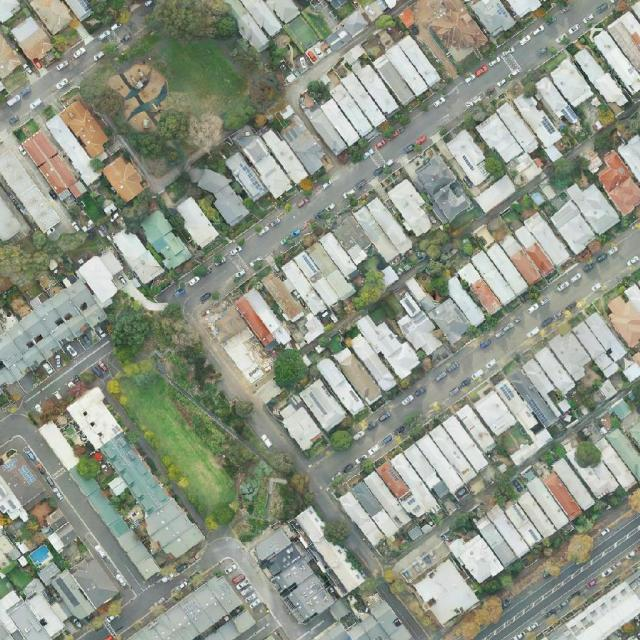building: (61, 385, 206, 564), (290, 15, 443, 161), (35, 419, 163, 582), (244, 502, 367, 628), (214, 98, 331, 212), (379, 258, 486, 365), (441, 215, 544, 319), (388, 425, 483, 521), (473, 96, 561, 189), (205, 286, 295, 376), (128, 572, 243, 640), (341, 304, 425, 393), (539, 173, 622, 257), (519, 327, 600, 406), (294, 231, 369, 309), (529, 56, 605, 132), (315, 342, 387, 421), (19, 128, 89, 208), (0, 147, 63, 235), (408, 0, 489, 68), (499, 476, 571, 550), (409, 558, 481, 630), (185, 154, 254, 229), (544, 438, 612, 513), (493, 374, 547, 466), (408, 152, 475, 226), (336, 480, 402, 552), (511, 88, 572, 163), (447, 520, 514, 588), (296, 9, 374, 66), (352, 195, 415, 265), (44, 113, 103, 187), (590, 9, 640, 96), (45, 113, 103, 187), (571, 310, 633, 378), (570, 45, 631, 113), (497, 221, 557, 288), (314, 601, 414, 639), (136, 208, 193, 273), (58, 97, 115, 160), (505, 366, 560, 430), (108, 225, 164, 286), (276, 115, 331, 176), (385, 177, 438, 240), (276, 259, 331, 318), (599, 136, 640, 215), (444, 128, 497, 188), (375, 460, 426, 522), (361, 470, 413, 530), (415, 433, 465, 494), (441, 414, 490, 473), (297, 378, 349, 433), (275, 398, 326, 454), (171, 195, 221, 251), (76, 253, 125, 310), (485, 503, 532, 559), (396, 33, 443, 88), (260, 269, 307, 324), (100, 153, 149, 204), (428, 423, 474, 477), (498, 232, 543, 287), (442, 275, 487, 329), (472, 389, 518, 438), (473, 518, 518, 568), (455, 403, 498, 455), (541, 471, 584, 521), (468, 0, 518, 40), (204, 607, 257, 640), (474, 175, 518, 214), (293, 312, 327, 346), (0, 31, 22, 78), (0, 196, 22, 241), (0, 530, 22, 568), (623, 282, 640, 316), (403, 495, 426, 519)
greenland: (109, 359, 249, 534), (75, 38, 216, 185), (99, 279, 204, 380), (159, 336, 250, 448), (160, 375, 258, 479), (157, 37, 250, 119), (223, 471, 307, 554), (220, 37, 289, 138), (442, 471, 521, 541), (147, 0, 237, 40), (541, 527, 601, 587), (414, 229, 451, 311), (264, 343, 318, 399), (473, 558, 531, 606), (352, 251, 391, 314), (73, 184, 115, 226), (548, 155, 592, 190), (89, 0, 148, 25), (588, 123, 625, 158), (479, 150, 510, 182), (575, 441, 601, 468), (571, 513, 596, 534), (629, 488, 640, 513), (564, 527, 570, 534)
metalled_road: (192, 527, 332, 640), (16, 336, 118, 415), (109, 571, 189, 638), (337, 523, 389, 582), (304, 479, 350, 534), (75, 626, 109, 639)
